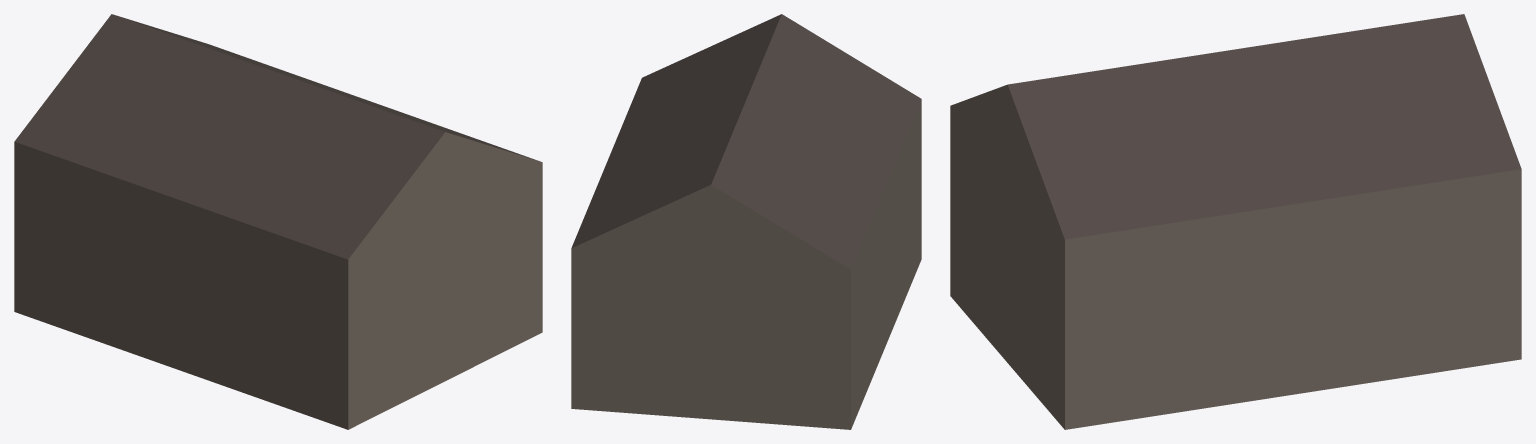
3 views of the same model, side by side, from view 1: azimuth 30°, elevation 25°; view 2: azimuth 150°, elevation 25°; view 3: azimuth 270°, elevation 25° (orthographic). The views are drawn at different scales.
Visible parts, largest first — view 1: HP-w859488818; view 2: HP-w859488818; view 3: HP-w859488818.
Boxes of the visible parts, x1,y1,x2,y2 form: HP-w859488818: (14,14,542,429); HP-w859488818: (571,14,921,429); HP-w859488818: (950,14,1521,429).
Size of the model in its own units: 20.74 by 13.17 by 24.49.
